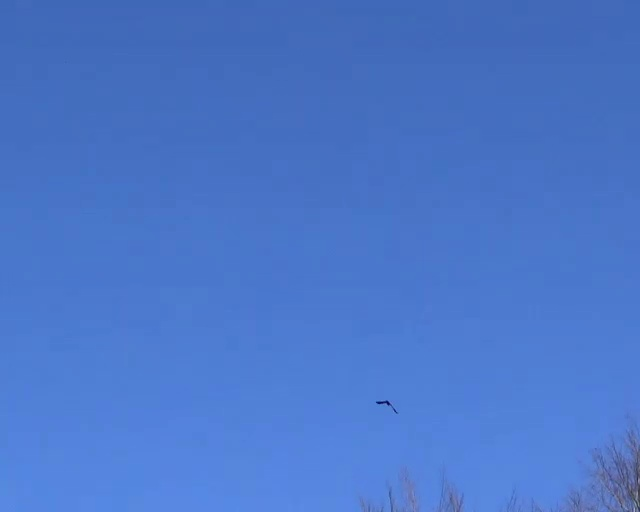BIRD: (375, 399, 398, 414)
